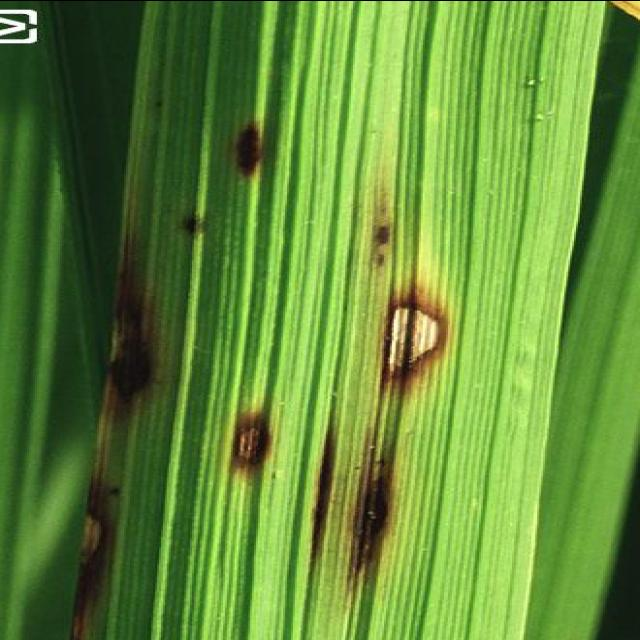Brown_Spot: (326, 442, 410, 610), (376, 284, 473, 397), (100, 299, 172, 432), (228, 401, 304, 492), (233, 110, 281, 194)
